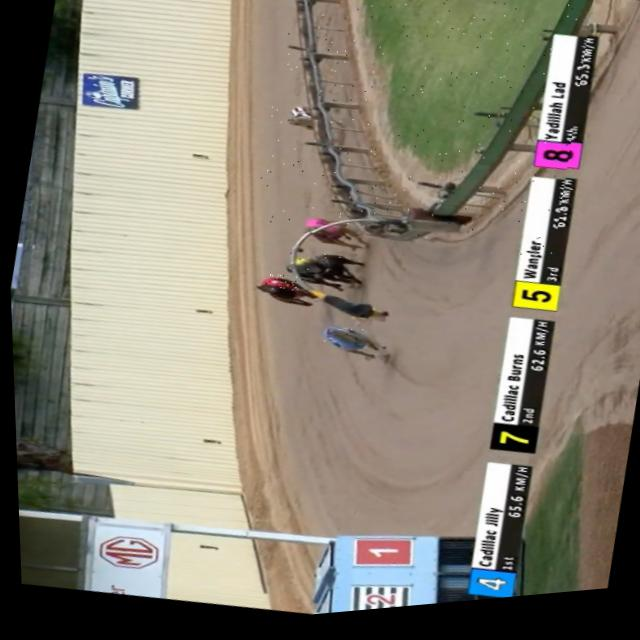dog_eight: (303, 213, 347, 240)
dog_five: (284, 255, 317, 278)
dog_four: (320, 324, 372, 362)
dog_one: (258, 274, 303, 301)
dog_seven: (314, 257, 343, 277)
dog_two: (288, 101, 319, 126)
rail: (296, 0, 593, 248)
